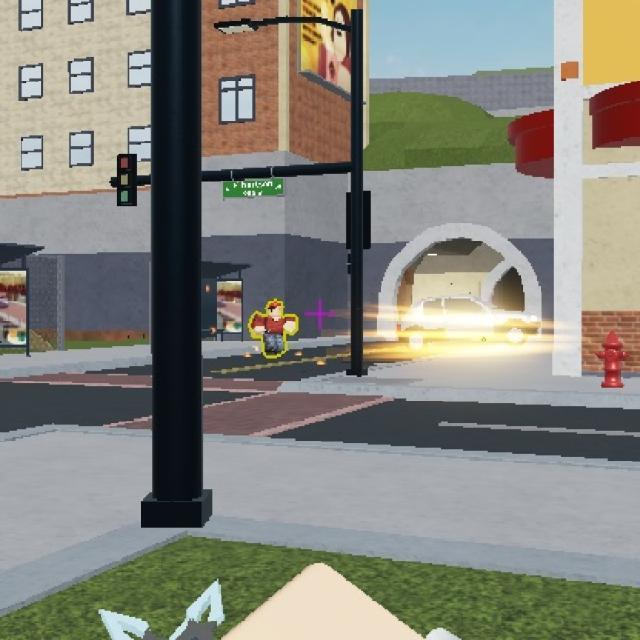player: (254, 284, 293, 356)
